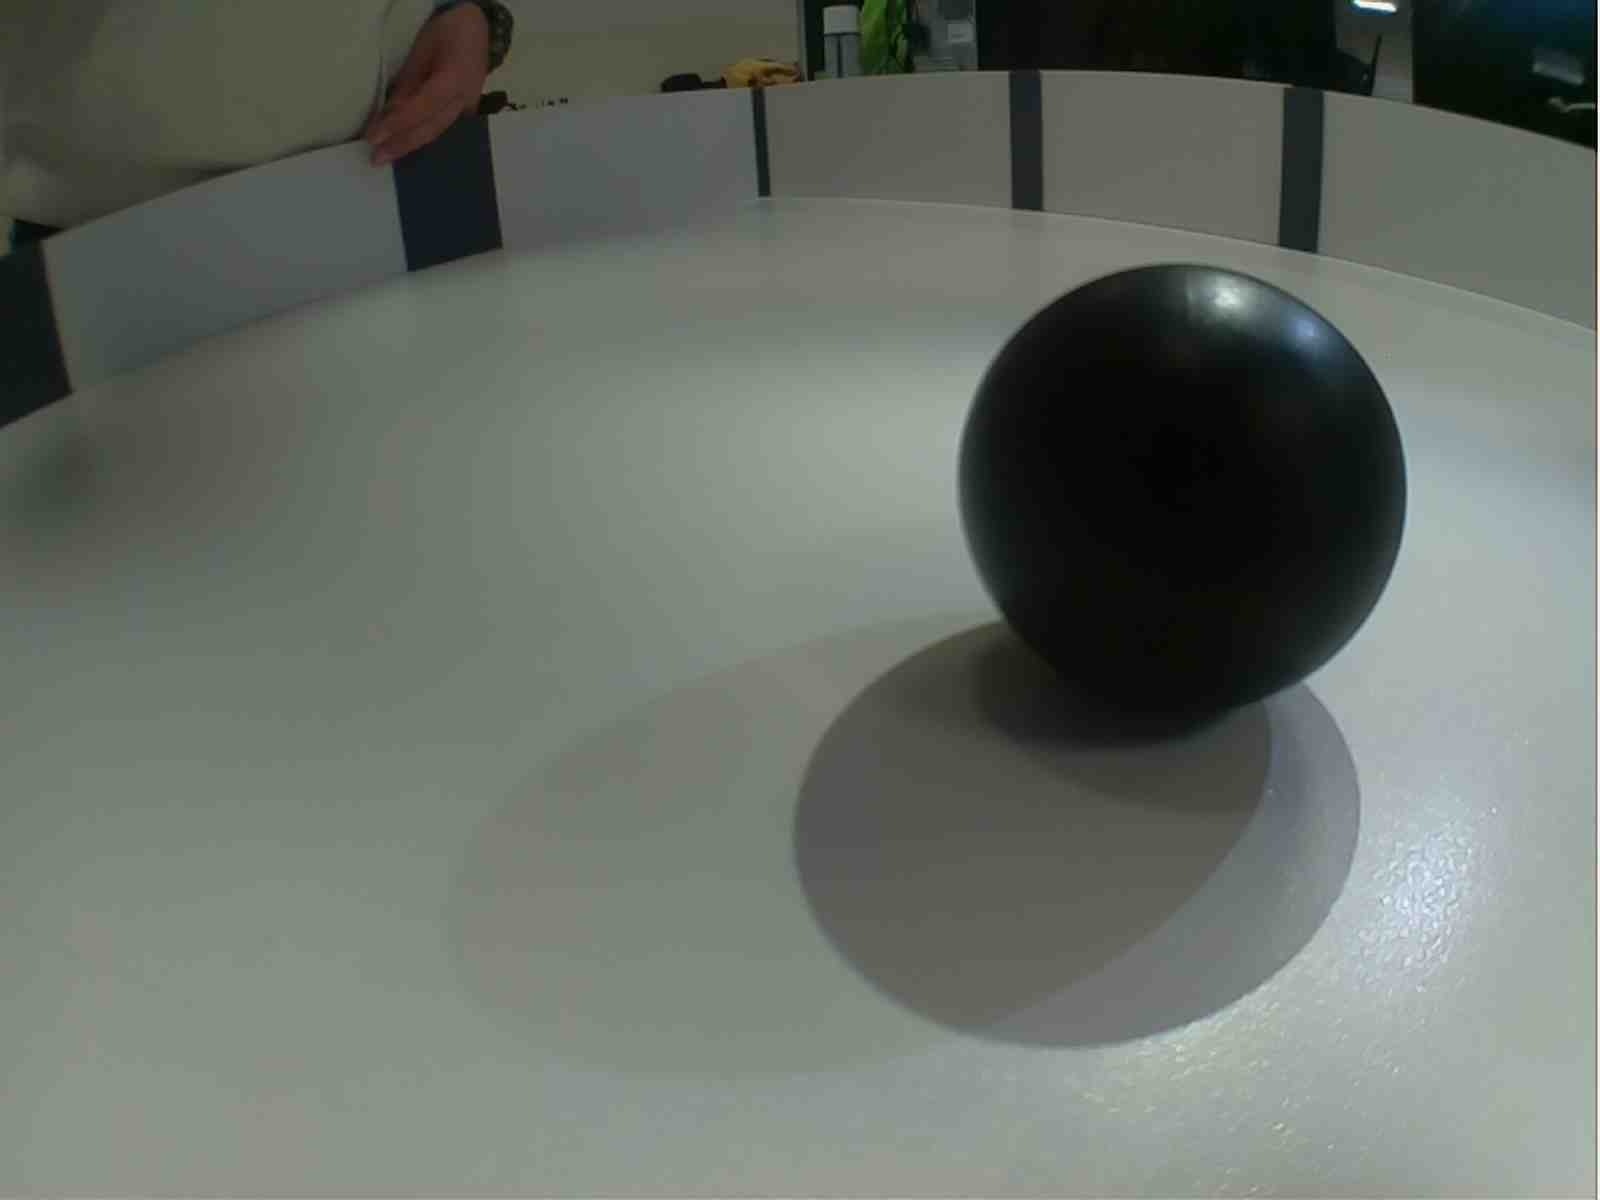nera: (952, 256, 1424, 725)
